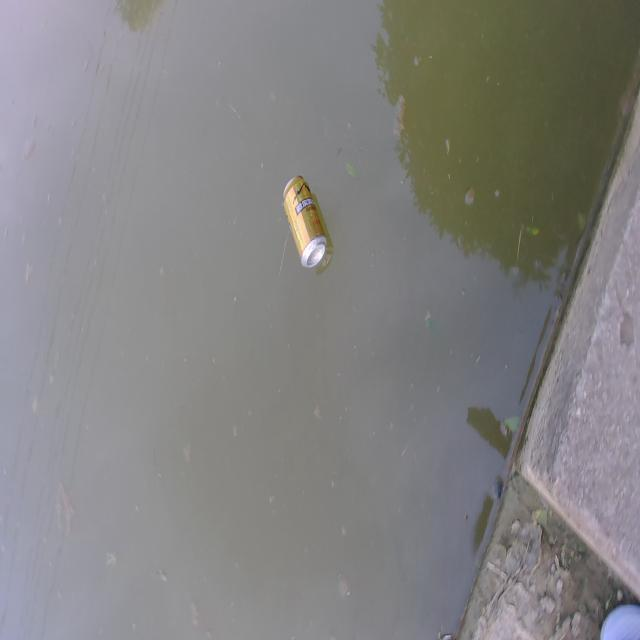garbage: (282, 174, 328, 270)
